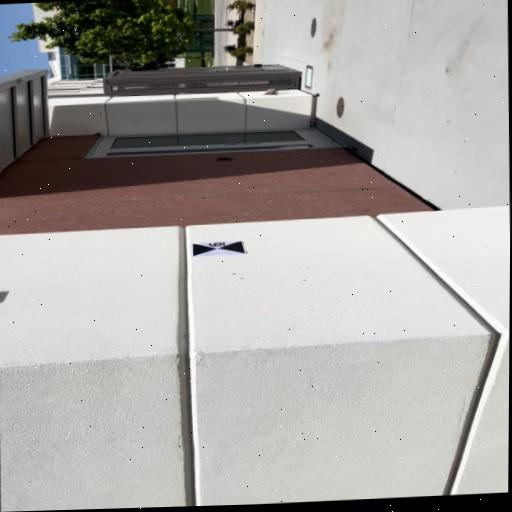target6: (190, 241, 247, 261)
